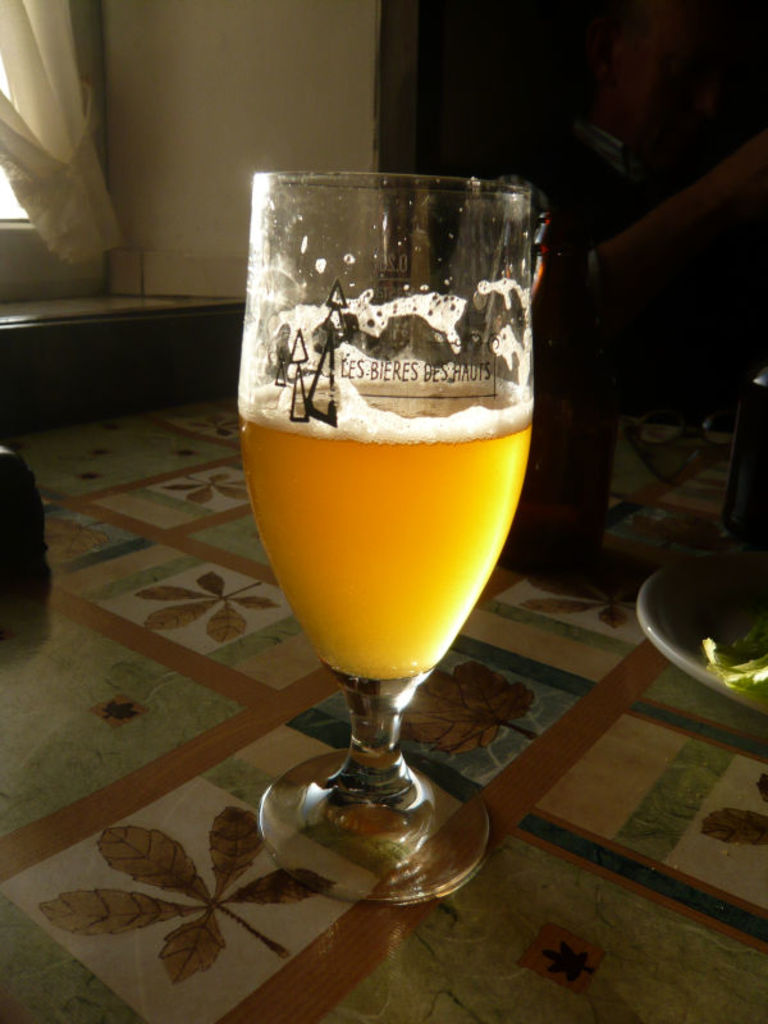Beer: (229, 362, 526, 678)
